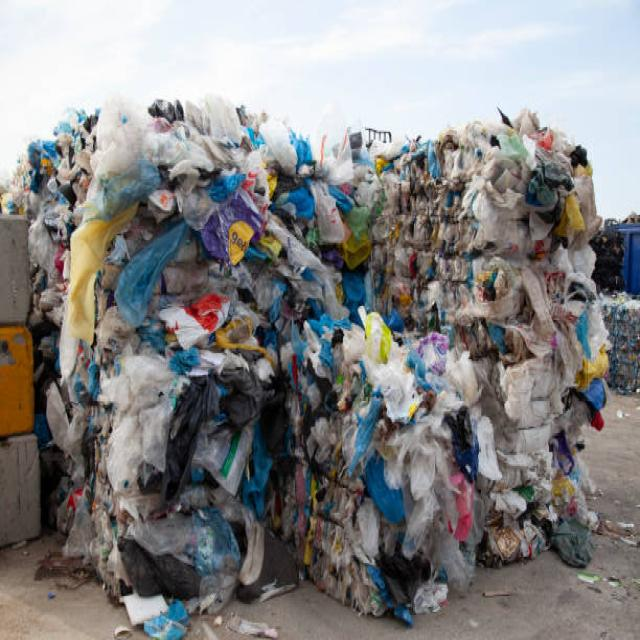plastic: (58, 118, 604, 572)
